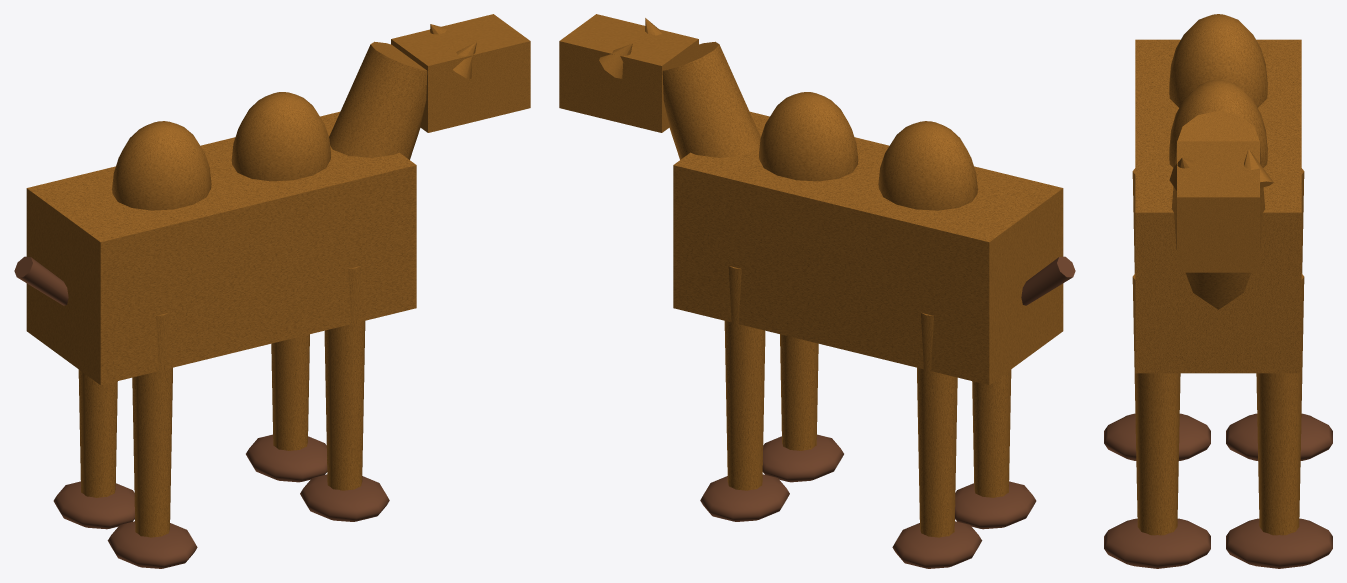
Rendered from camel.glb.
The picture shows the model from 3 angles, left to right: view 1: azimuth 30°, elevation 25°; view 2: azimuth 150°, elevation 25°; view 3: azimuth 270°, elevation 25°; orthographic projection. The views are drawn at different scales.
Bounding box in the file's own units: 3.88 × 3.21 × 1.38.
Materials: 2 (1 with a texture image).
